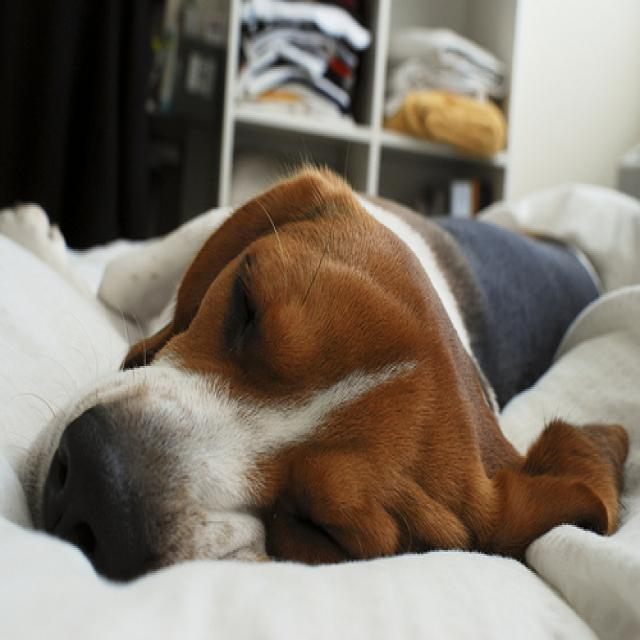dog-beagle: (1, 157, 635, 584)
